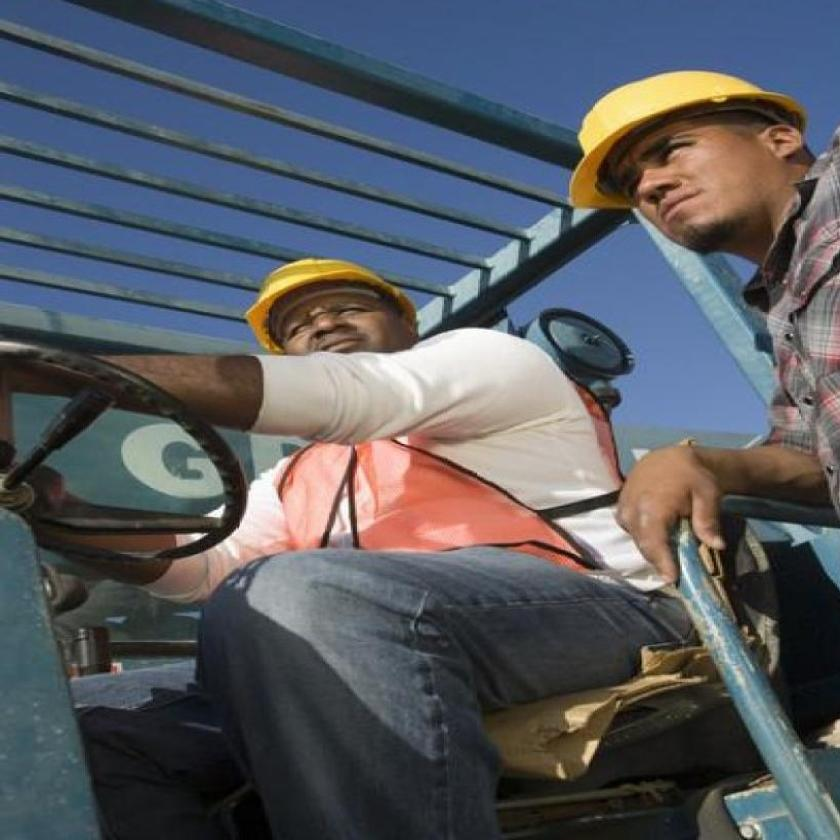Con_casco: (562, 47, 815, 279), (248, 248, 428, 408)
